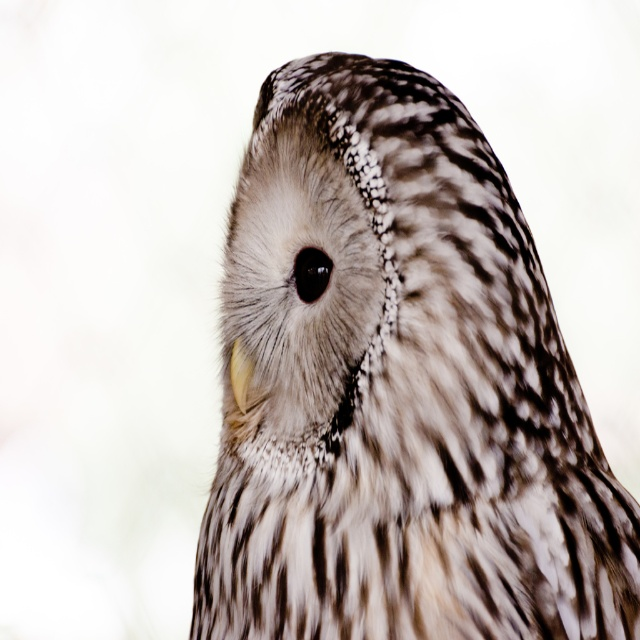Owl: (189, 50, 640, 639)
